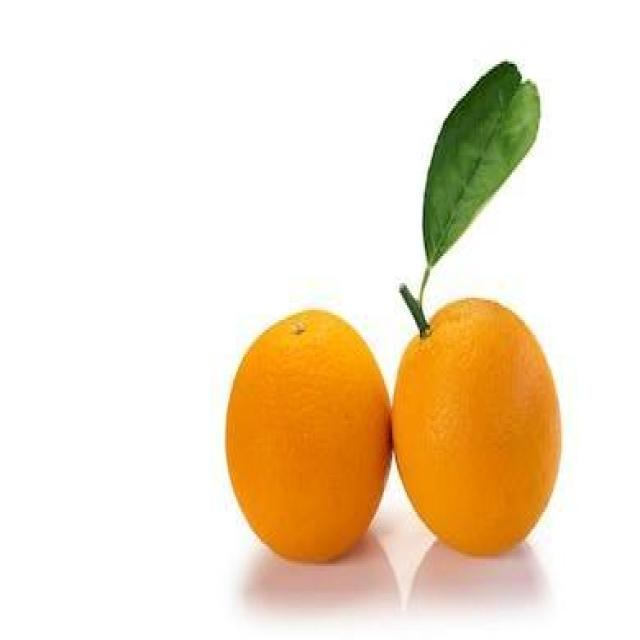orange: (395, 294, 564, 558), (223, 305, 390, 566)
